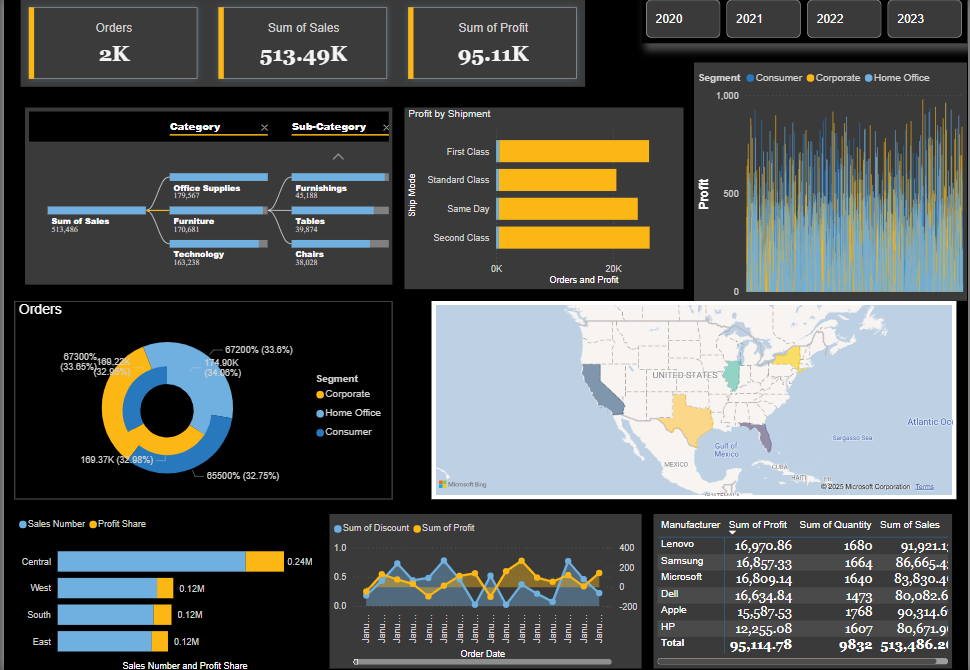

What the dashboard file says about the page in this screenshot:
{"tool":"powerbi","page":{"name":"Page 1","canvas":[1280,902],"ordinal":0},"visuals":[{"type":"filledMap","title":"Profit region","fields":{"Category":["DM_city.State"],"Y":["Avg(FactSuperstore.Sales)"],"Series":["FactSuperstore.Profit"]},"box":[567.9,406.5,697.4,263],"z":0},{"type":"barChart","fields":{"Category":["DM_city.Region"],"Y":["Sum(FactSuperstore.Sales)","Sum(FactSuperstore.Profit)"]},"box":[14.1,683.5,400.4,219],"z":1000},{"type":"lineChart","fields":{"Category":["FactSuperstore.Order Date.Variation.Date Hierarchy.Year"],"Y":["Sum(FactSuperstore.Discount)"],"Y2":["Sum(FactSuperstore.Profit)"]},"box":[432.4,689.5,414.5,205.2],"z":2000},{"type":"barChart","title":"Profit by Shipment ","fields":{"Category":["DM_Shipmode.Ship Mode"],"Y":["Measure.Orders","Sum(FactSuperstore.Profit)"]},"box":[532,149.5,370.6,241.1],"z":3000},{"type":"pivotTable","fields":{"Values":["Sum(FactSuperstore.Profit)","Sum(FactSuperstore.Quantity)","Sum(FactSuperstore.Sales)"],"Rows":["DM_Manufactured.Manufacturer"]},"box":[862.8,689.5,396.5,205.2],"z":4000},{"type":"donutChart","title":"Orders","fields":{"Category":["DM_Segment.Segment"],"Y":["Measure.Orders"]},"box":[13.9,406.5,502.2,263],"z":5000},{"type":"donutChart","fields":{"Category":["DM_Segment.Segment"],"Y":["Sum(FactSuperstore.Sales)"]},"box":[85.7,468.3,261,167.4],"z":6000},{"type":"advancedSlicerVisual","fields":{"Values":["Calendar.Date.Variation.Date Hierarchy.Year"]},"box":[846.9,0,432.4,63.8],"z":7000},{"type":"cardVisual","fields":{"Data":["Measure.Orders","Sum(FactSuperstore.Sales)","Sum(FactSuperstore.Profit)"]},"box":[0,0,795.1,127.5],"z":8000},{"type":"decompositionTreeVisual","fields":{"ExplainBy":["DM_Category.Category","DM_Category.Sub-Category"],"Analyze":["Sum(FactSuperstore.Sales)"]},"box":[27.9,149.5,488.2,235.1],"z":9000},{"type":"ribbonChart","fields":{"Series":["DM_Segment.Segment"],"Category":["FactSuperstore.Order Date.Variation.Date Hierarchy.Year"],"Y":["Sum(FactSuperstore.Sales)"]},"box":[916.6,89.7,362.7,316.8],"z":9001}]}

Visuals, with their boxes in screenshot pixels (x1, y1, x2, y2), scaled from the page's 1280x902 canvas onto the 970x670 screenshot:
"Profit region" filledMap: 430:302:959:497
barChart - DM_city.Region x Sum(FactSuperstore.Sales): 11:508:314:669
lineChart - FactSuperstore.Order Date.Variation.Date Hierarchy.Year x Sum(FactSuperstore.Discount): 328:512:642:665
"Profit by Shipment " barChart: 403:111:684:290
pivotTable - Sum(FactSuperstore.Profit) x Sum(FactSuperstore.Quantity): 654:512:954:665
"Orders" donutChart: 11:302:391:497
donutChart - DM_Segment.Segment x Sum(FactSuperstore.Sales): 65:348:263:472
advancedSlicerVisual - Calendar.Date.Variation.Date Hierarchy.Year: 642:0:969:47
cardVisual - Measure.Orders x Sum(FactSuperstore.Sales): 0:0:603:95
decompositionTreeVisual - DM_Category.Category x DM_Category.Sub-Category: 21:111:391:286
ribbonChart - DM_Segment.Segment x FactSuperstore.Order Date.Variation.Date Hierarchy.Year: 695:67:969:302
